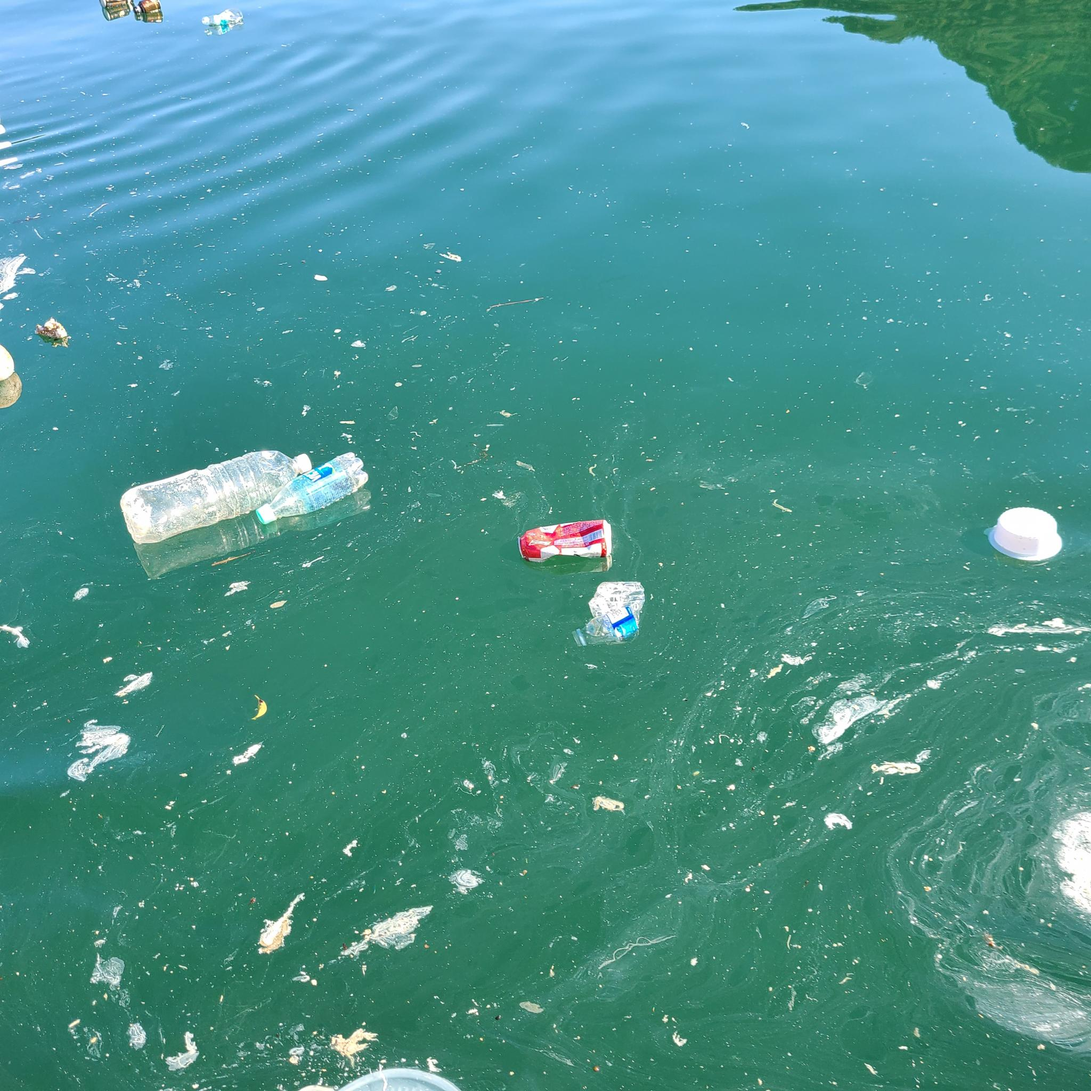sampah_terapung: (121, 451, 312, 544), (257, 452, 369, 525), (573, 582, 646, 647), (983, 508, 1063, 561), (518, 520, 612, 563), (202, 8, 243, 26), (1, 345, 14, 383), (134, 1, 163, 14), (100, 1, 133, 9)
